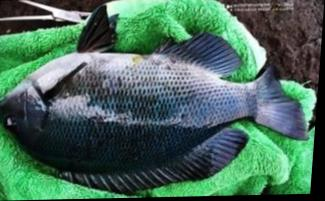fish: (0, 4, 312, 194)
